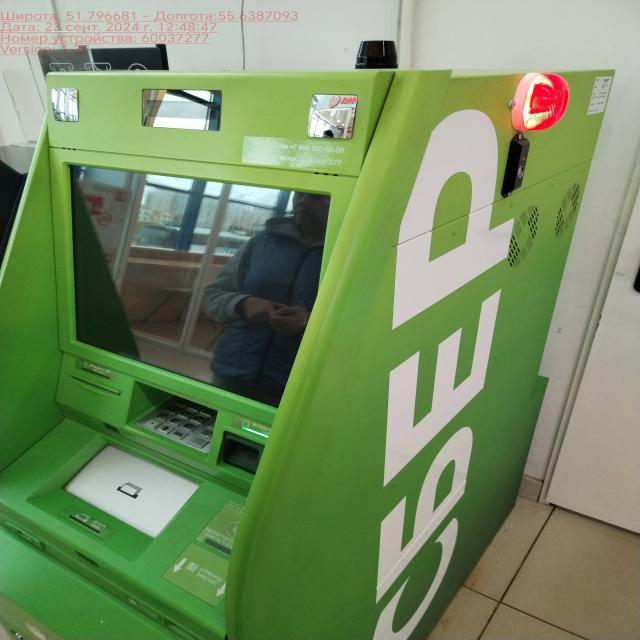bank: (0, 69, 621, 640)
